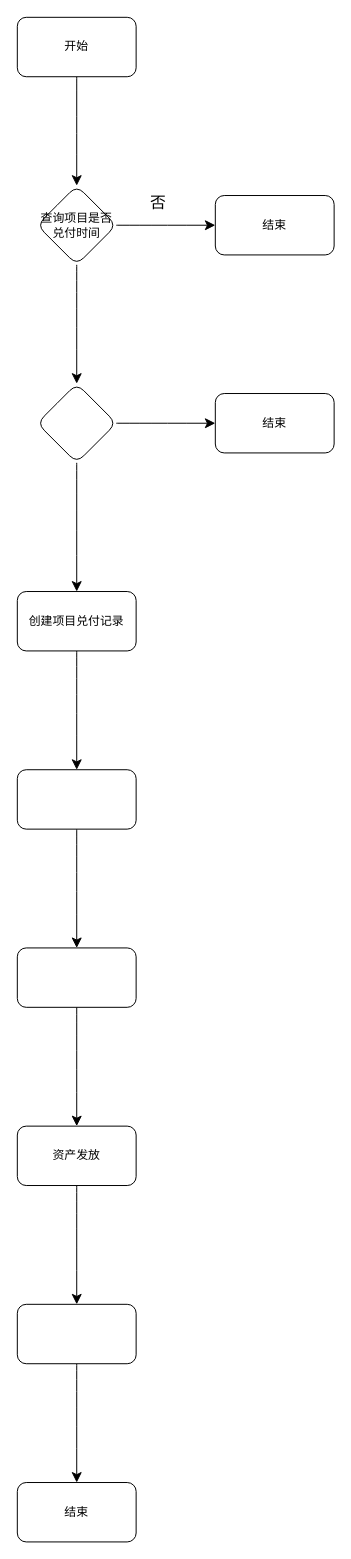
This 351x1559 diagram has some shape labels left out. The shapes that lost their labels are listed below. From the top down, each one's box as (x1, y1, x2, y2) in pixels, then its label:
(36, 383, 116, 463): 是否已兑付
(16, 769, 136, 829): 计算用户兑付记录
(16, 947, 136, 1007): 生成用户兑付记录
(16, 1303, 136, 1364): 更新用户兑付记录成功或失败 更新项目发放
